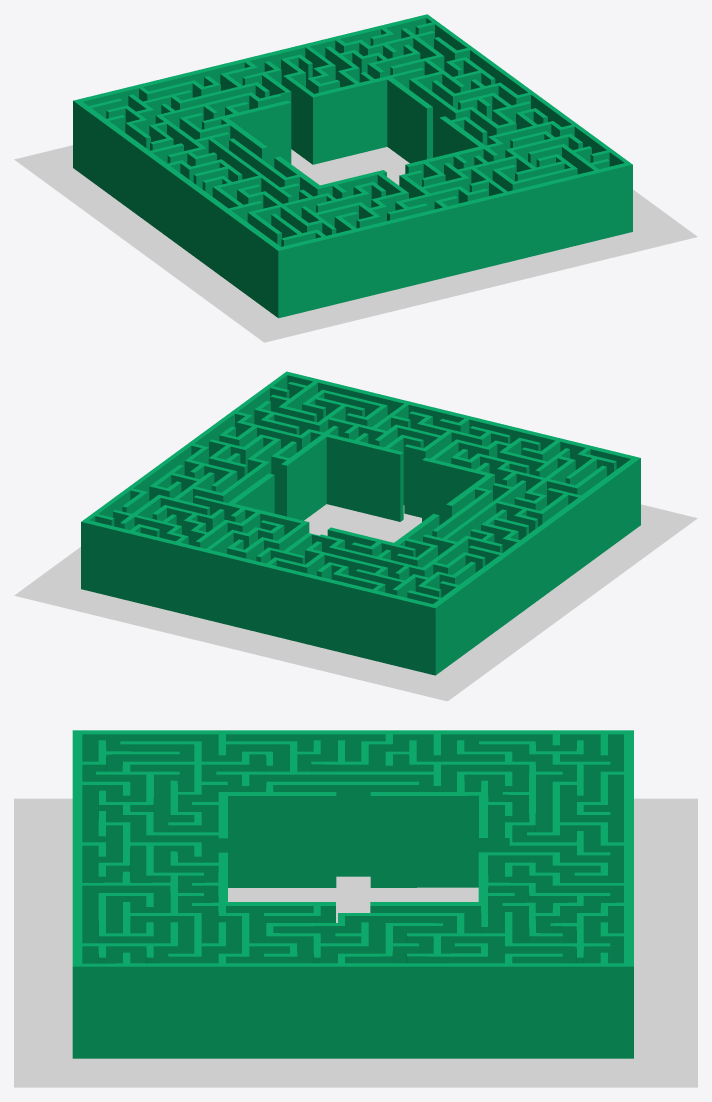
File: modelo 3d laberinto.gltf
3 renders of one model, top to bottom at view 1: azimuth 30°, elevation 25°; view 2: azimuth 150°, elevation 25°; view 3: azimuth 270°, elevation 25°, orthographic. The views are drawn at different scales.
Parts seen in each view (by area): view 1: Curve, Plane; view 2: Curve, Plane; view 3: Curve, Plane.
Boxes of the visible parts, x1,y1,x2,y2 form: Curve: (73,14,632,318); Plane: (14,145,697,342); Curve: (81,371,640,675); Plane: (14,504,697,701); Curve: (72,730,633,1058); Plane: (14,798,697,1087).
Size of the model in its own units: 120 by 17.8 by 120.
